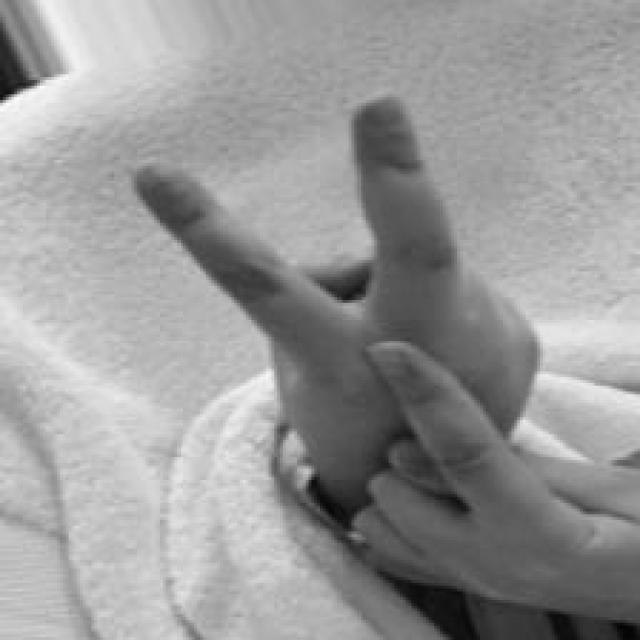Y: (133, 87, 640, 624)
